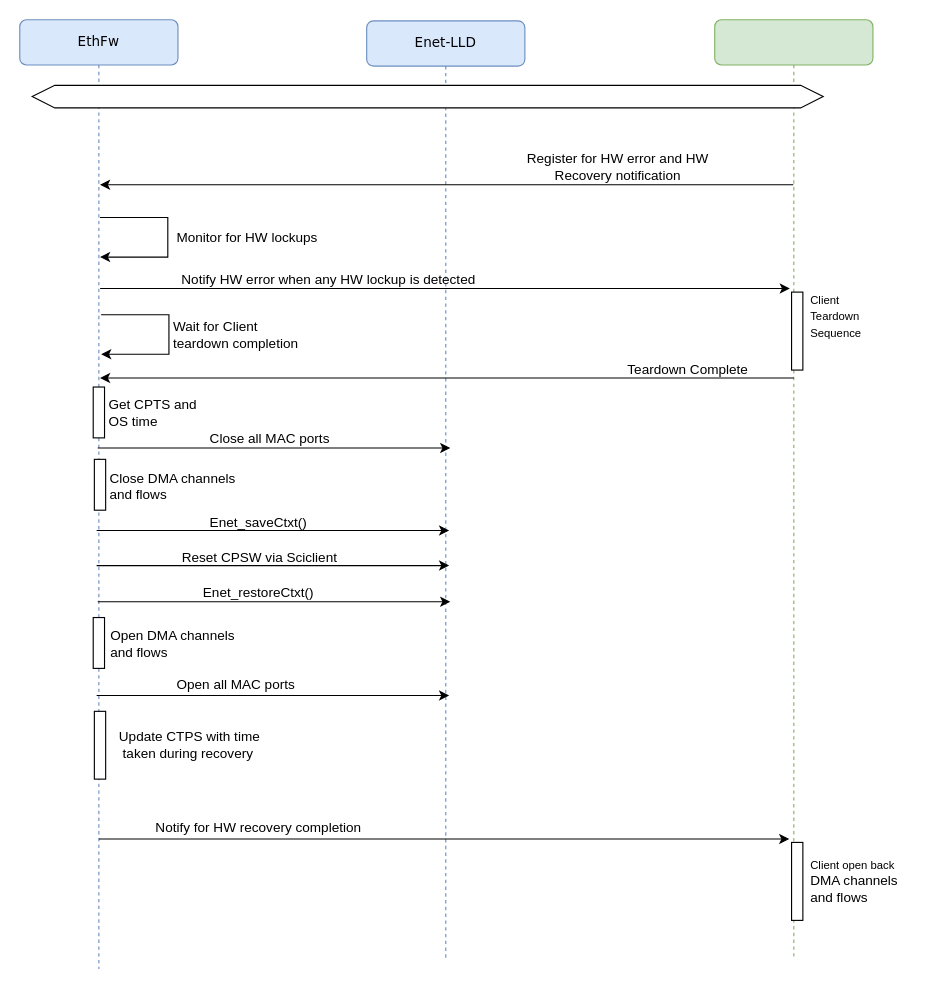
Some shapes in this 941 by 989 pixel diagram are drawn without their labels. Here are the shapes that lost their labels. From the top down, the box of each, then its label:
(31, 84, 823, 108): initial state = connected with link up on available port
(714, 19, 873, 958): Remote Client App
